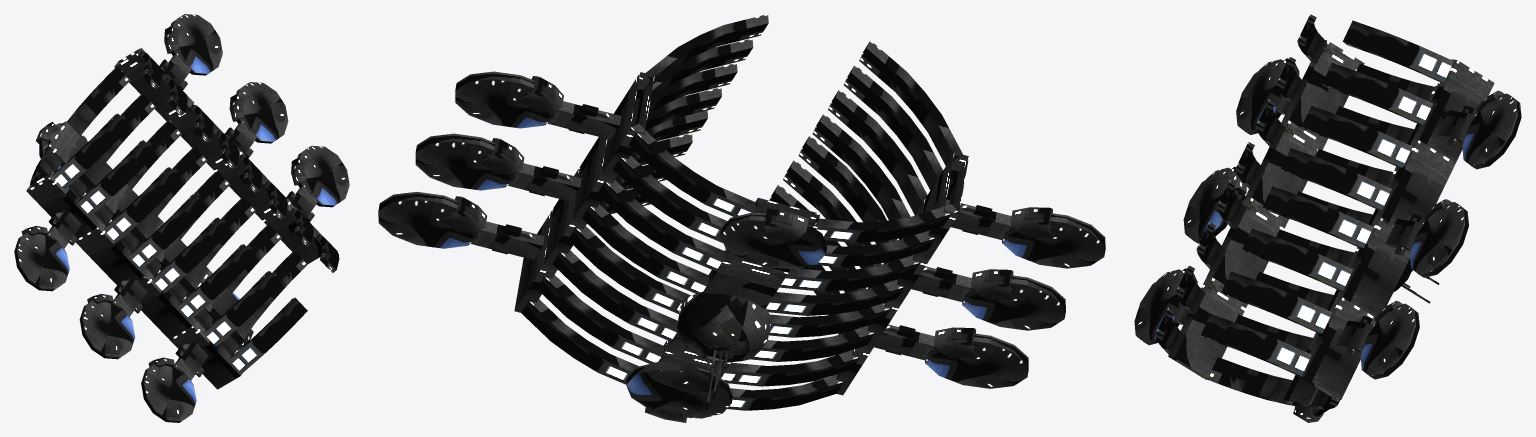
The model's file is shipyard.fbx.
3 renders of one model, left to right at view 1: azimuth 30°, elevation 25°; view 2: azimuth 150°, elevation 25°; view 3: azimuth 270°, elevation 25°, orthographic. The views are drawn at different scales.
Parts seen in each view (by area): view 1: shipyard; view 2: shipyard; view 3: shipyard.
Part boxes in pixels (x1,y1,x2,y2): shipyard: [14, 14, 349, 422]; shipyard: [378, 14, 1105, 422]; shipyard: [1134, 14, 1521, 422].
Size of the model in its own units: 471 by 328 by 324.
Materials: 1 (1 with a texture image).
